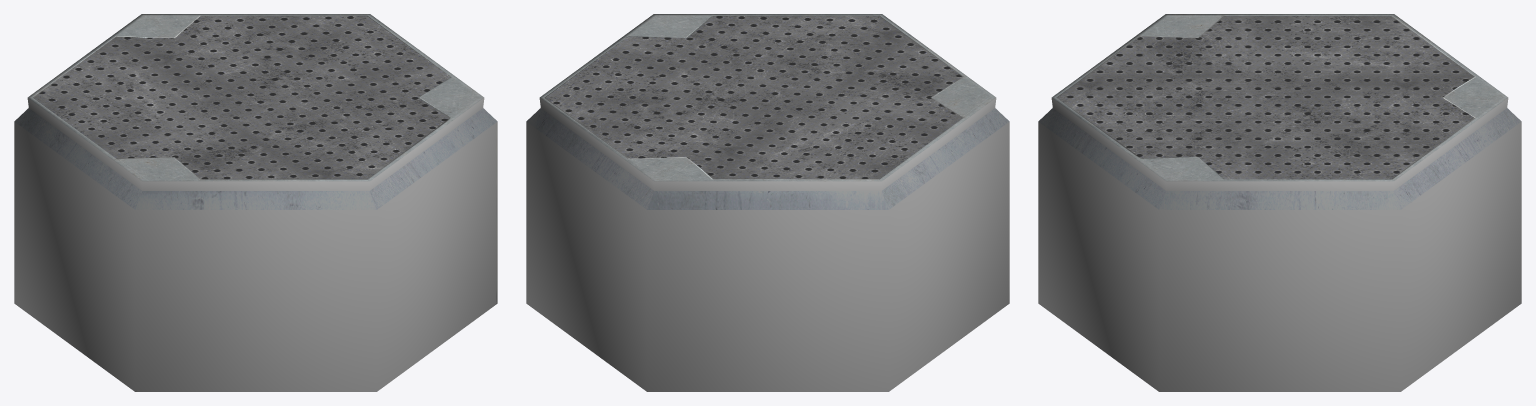
File: hexagonmesh.FBX
3 views of the same model, side by side, from view 1: azimuth 30°, elevation 25°; view 2: azimuth 150°, elevation 25°; view 3: azimuth 270°, elevation 25° (orthographic).
Parts seen in each view (by area): view 1: Mesh_001; view 2: Mesh_001; view 3: Mesh_001.
Boxes of the visible parts, left/top/right/bottom form: Mesh_001: left=14, top=14, right=497, bottom=391; Mesh_001: left=526, top=14, right=1009, bottom=391; Mesh_001: left=1038, top=14, right=1521, bottom=391.
Bounding box in the file's own units: 1.87 × 1.01 × 2.16.
